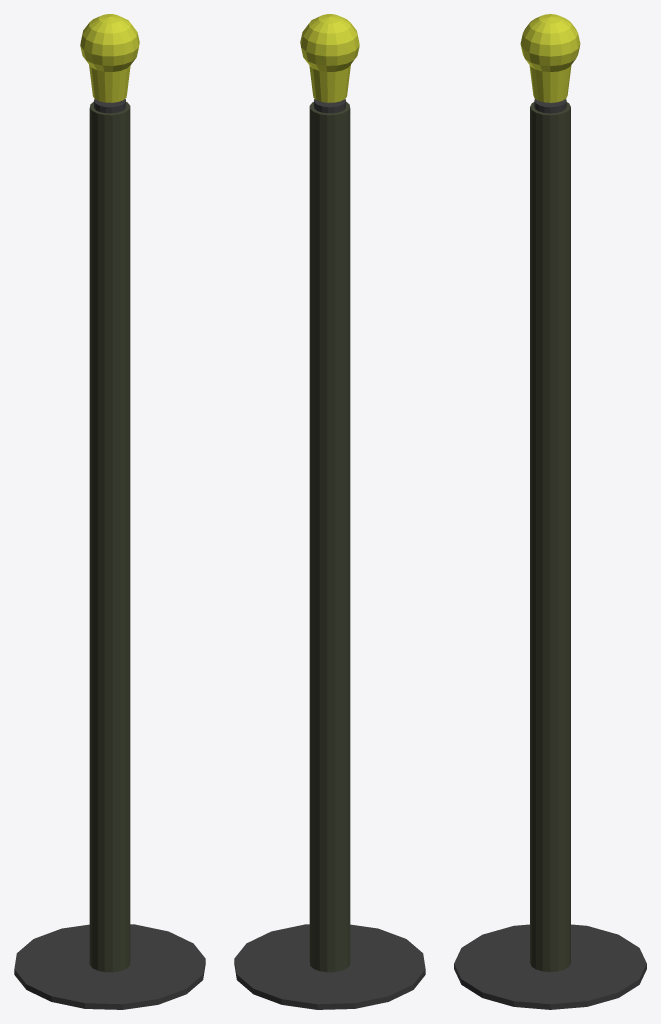
File: standing Lamp without cover.fbx
3 renders of one model, left to right at view 1: azimuth 30°, elevation 25°; view 2: azimuth 150°, elevation 25°; view 3: azimuth 270°, elevation 25°, orthographic.
Visible parts, largest first — view 1: Cylinder, Cylinder_1, Sphere; view 2: Cylinder, Cylinder_1, Sphere; view 3: Cylinder, Cylinder_1, Sphere.
Boxes of the visible parts, x1,y1,x2,y2 form: Cylinder: (89, 101, 130, 972); Cylinder_1: (14, 924, 205, 1009); Sphere: (80, 14, 139, 102); Cylinder: (309, 101, 350, 972); Cylinder_1: (234, 924, 425, 1009); Sphere: (300, 14, 359, 102); Cylinder: (530, 102, 570, 971); Cylinder_1: (454, 924, 646, 1009); Sphere: (520, 14, 580, 102).
Bounding box in the file's own units: 100 × 545 × 100.
